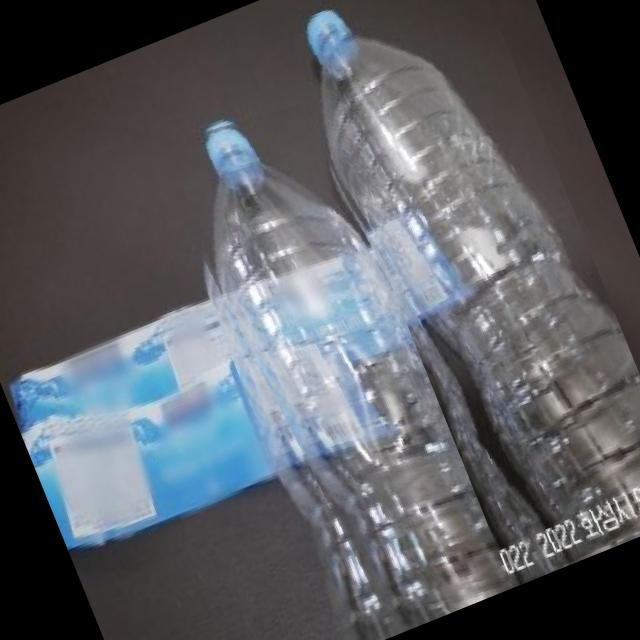plastic bottle: (263, 0, 640, 596), (147, 82, 513, 640)
